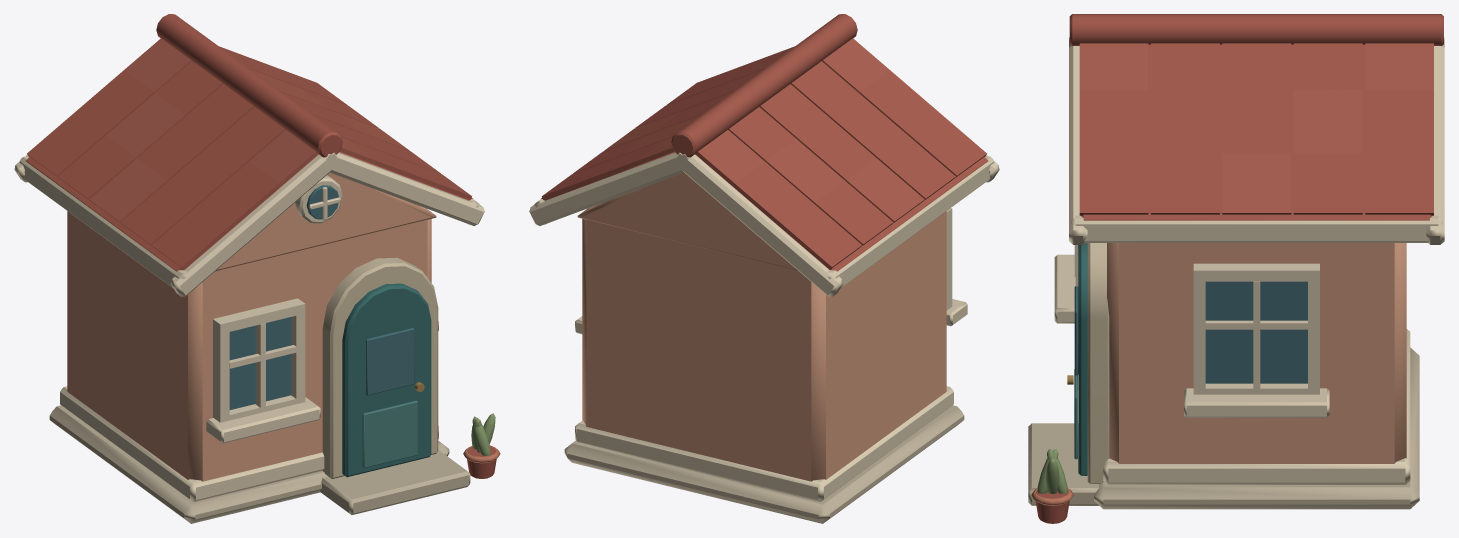
File: house_level_1.glb
3 views of the same model, side by side, from view 1: azimuth 30°, elevation 25°; view 2: azimuth 150°, elevation 25°; view 3: azimuth 270°, elevation 25° (orthographic). The views are drawn at different scales.
Parts seen in each view (by area): view 1: house_level_1_runtime; view 2: house_level_1_runtime; view 3: house_level_1_runtime.
Part boxes in pixels (box(x1,y1,x2,y2)): house_level_1_runtime: box(14, 14, 500, 523); house_level_1_runtime: box(529, 14, 999, 523); house_level_1_runtime: box(1028, 14, 1444, 523).
Bounding box in the file's own units: 2.9 × 3.28 × 2.92.
